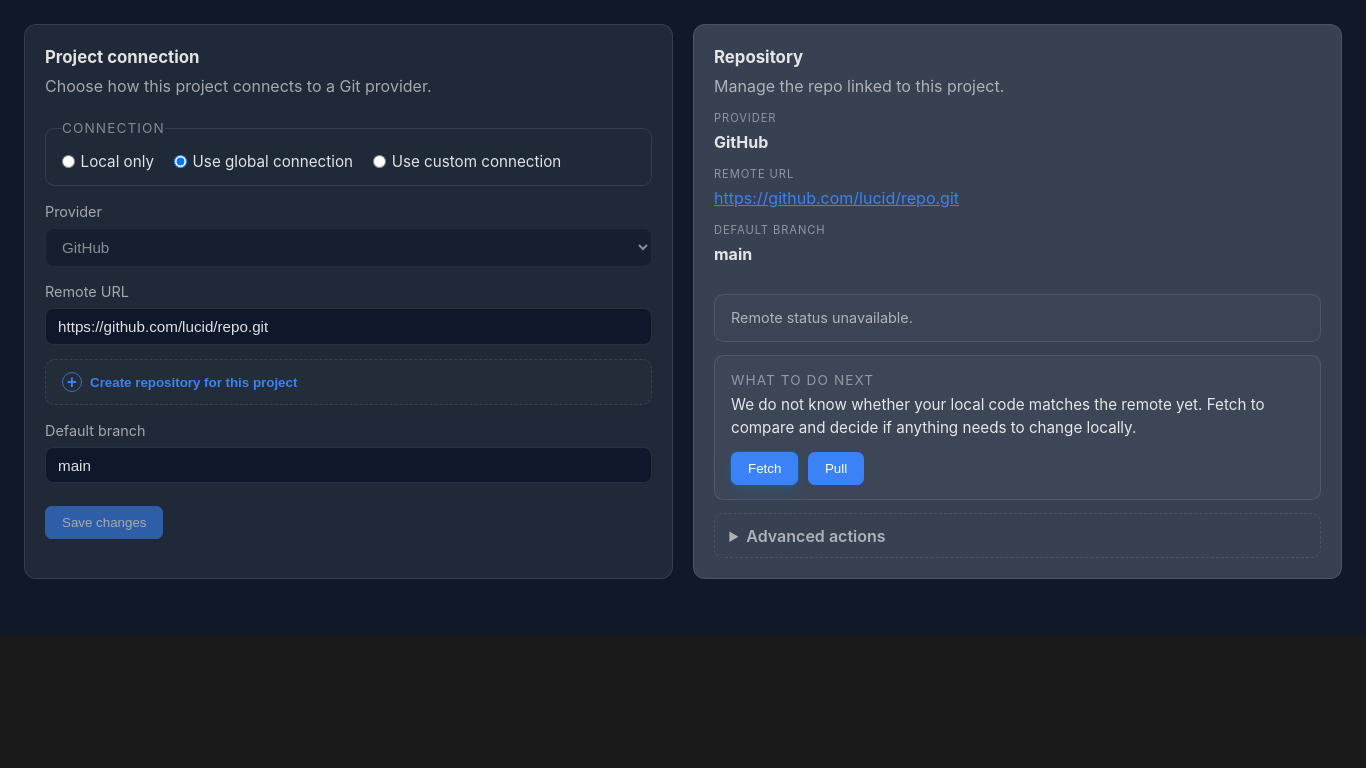
Test: GitTab › fetch remote shows success message
Click the button with test id "git-fetch-remote" at (765, 468), box [731, 452, 798, 485]
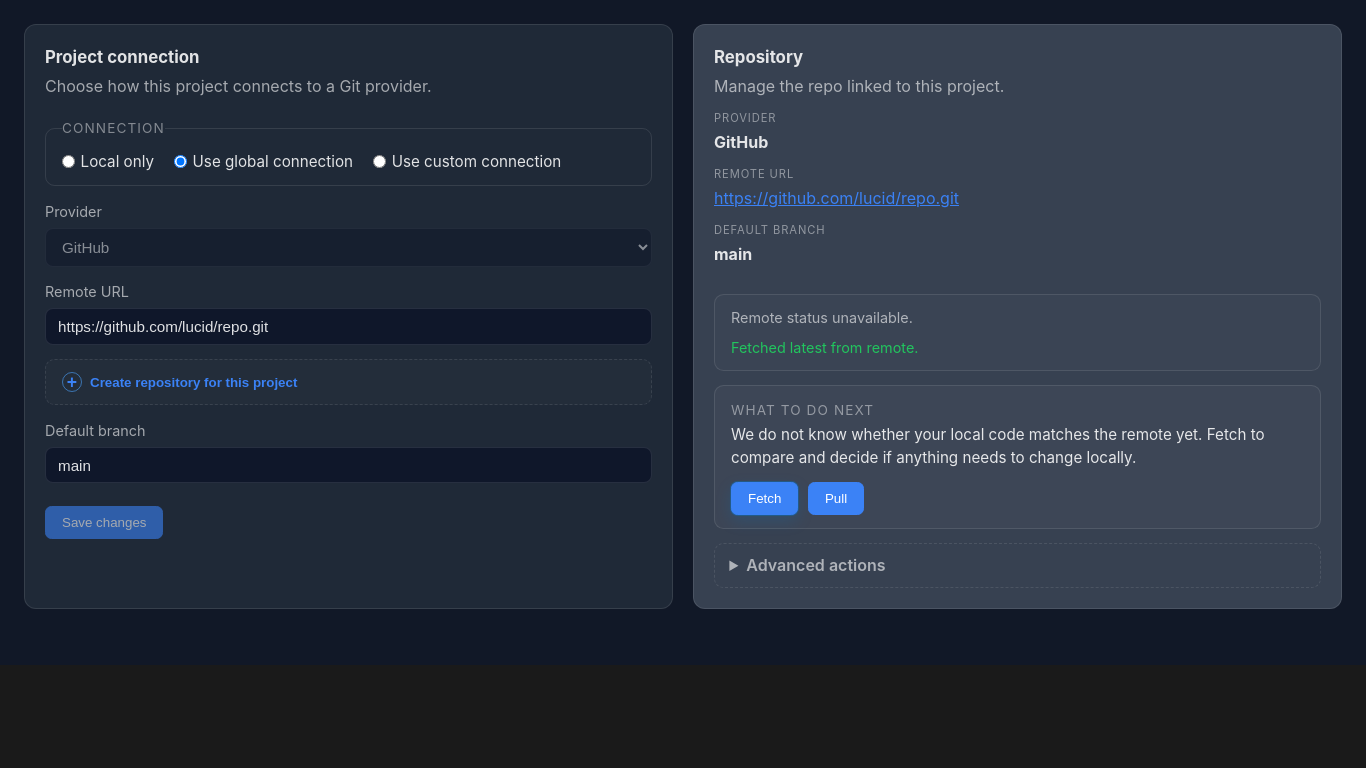
Expected: the text "Fetched latest from remote." is shown, [731, 339, 918, 356]
